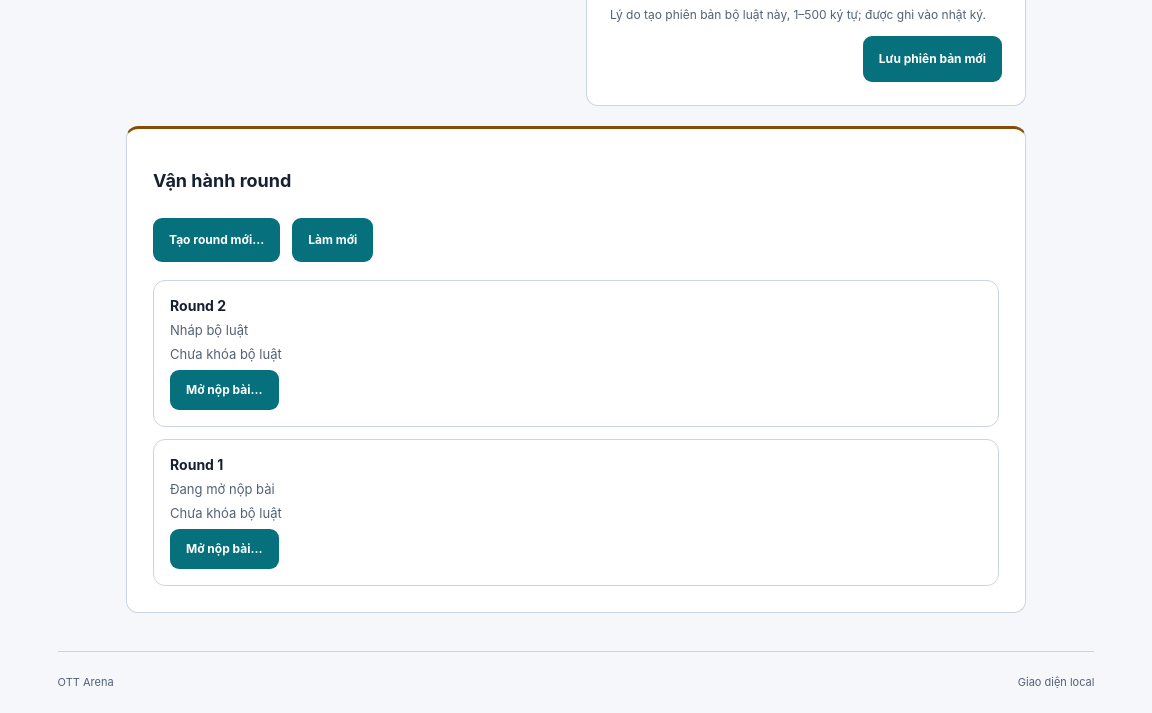
Scenario: RoundAdmin close errors and UX improvements (loop 104) › shows "đã tải lại" message visible in the affected round after reload on state conflict
(page scrolled)
Click the button "Mở nộp bài…" below "Nháp bộ luật" at (224, 390), box [170,370,278,410]
(page scrolled)
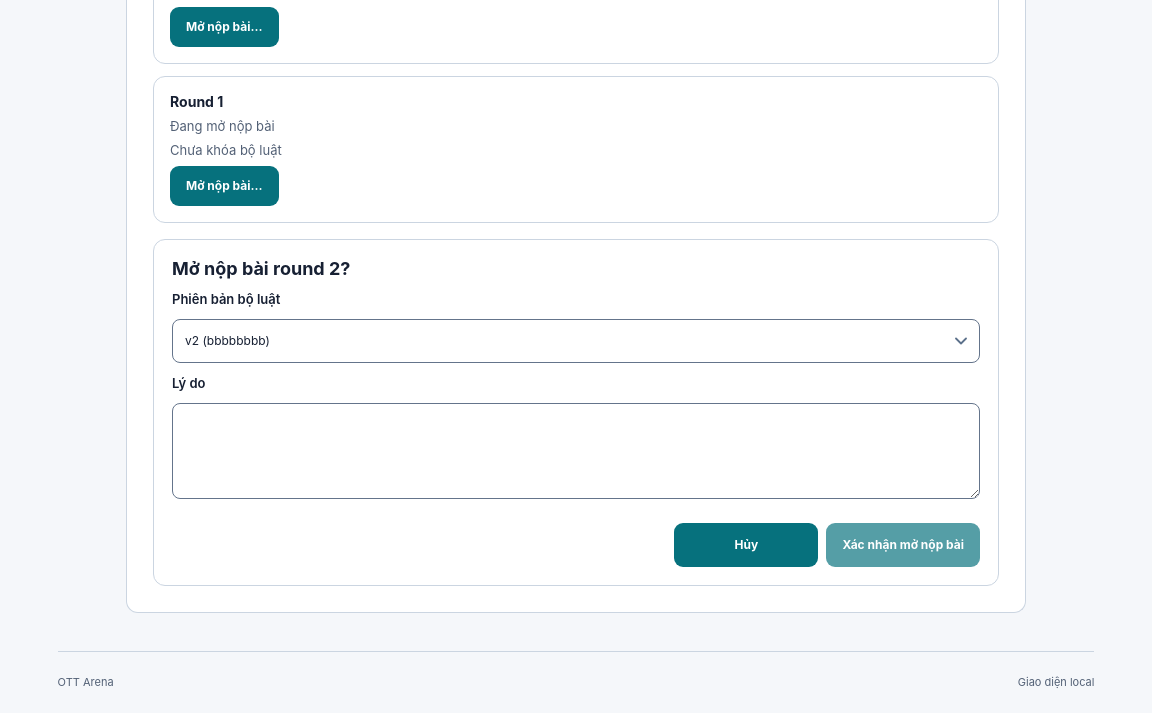
Type "Mở round 2" into the text box labelled "Lý do" at (576, 450), box [172,402,980,498]
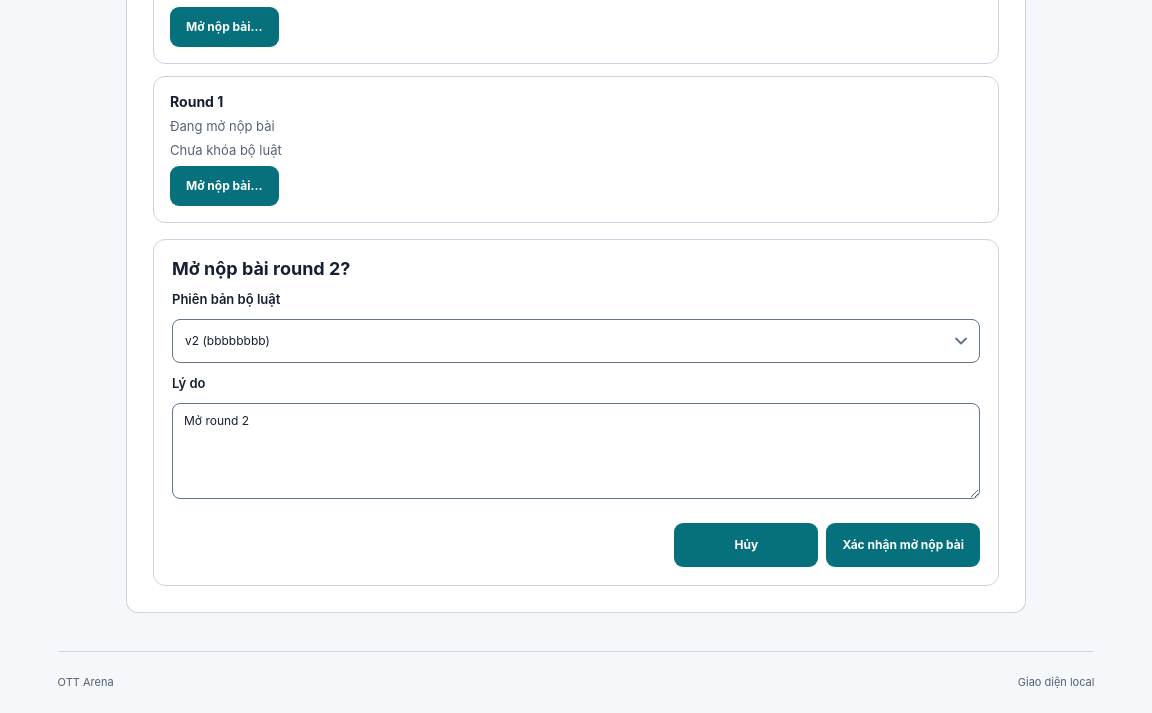
Click the button "Xác nhận mở nộp bài" at (903, 544), box [826,522,980,566]
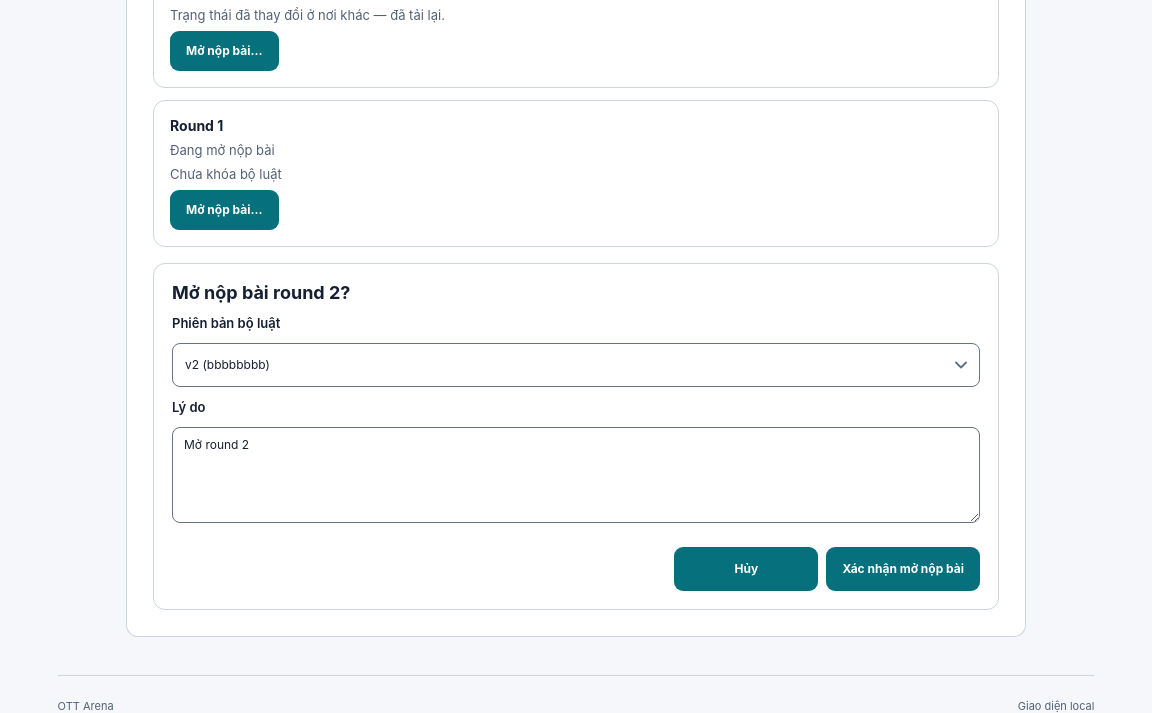
Result: the message shows "Trạng thái đã thay đổi ở nơi khác — đã tải lại" at [170,6,445,22]
